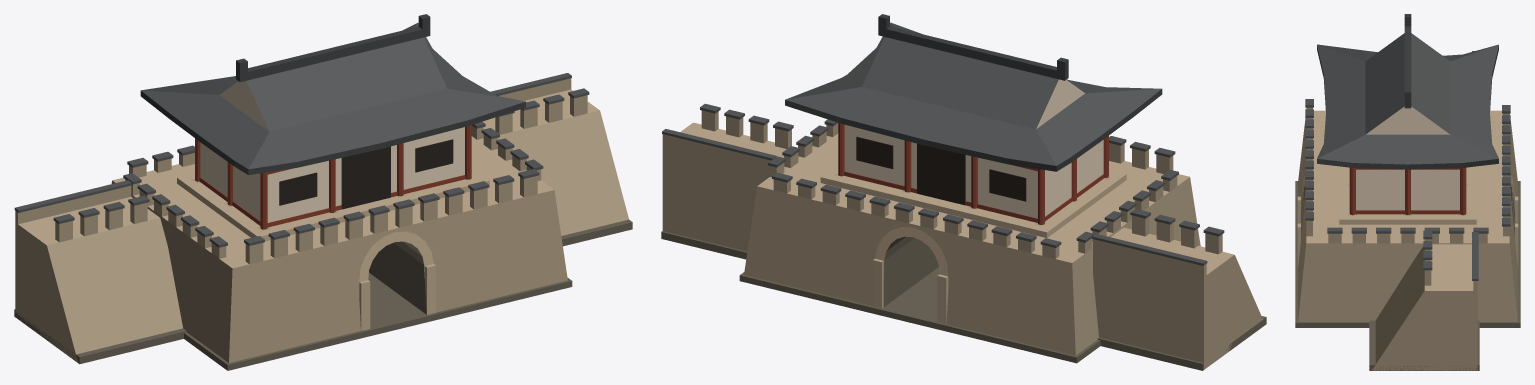
File: K04a_far.glb
The picture shows the model from 3 angles, left to right: view 1: azimuth 30°, elevation 25°; view 2: azimuth 150°, elevation 25°; view 3: azimuth 270°, elevation 25°; orthographic projection. The views are drawn at different scales.
Parts seen in each view (by area): view 1: K04a_far; view 2: K04a_far; view 3: K04a_far.
Part boxes in pixels (x1,y1,x2,y2): K04a_far: [14, 14, 632, 370]; K04a_far: [661, 14, 1266, 370]; K04a_far: [1295, 14, 1520, 370].
Bounding box in the file's own units: 48.8 × 20.35 × 20.4.
